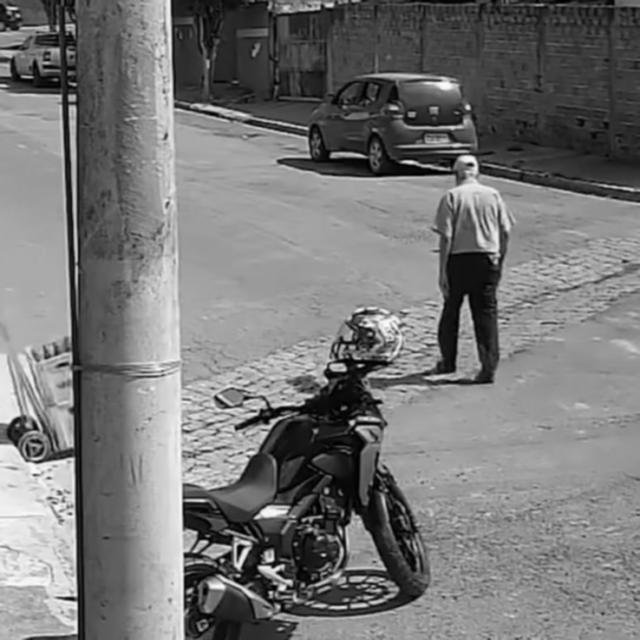Invader: (427, 152, 515, 384)
